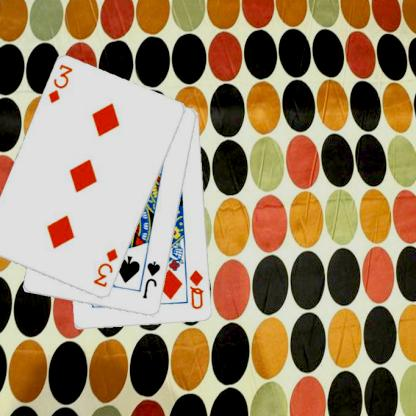3D: (90, 246, 120, 289), (46, 62, 74, 105)
JS: (140, 259, 162, 300)
QD: (187, 267, 205, 311)
